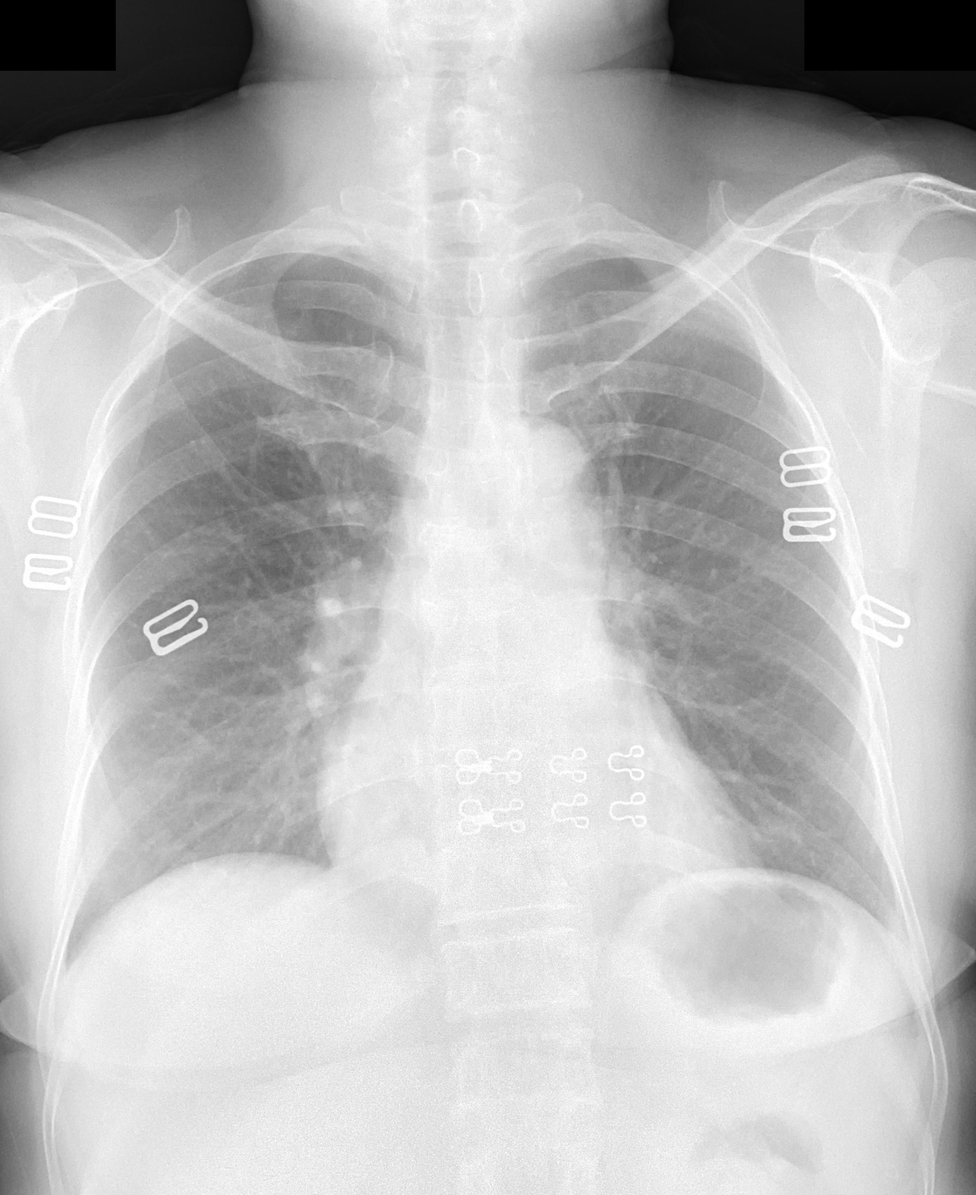Pleural thickening: (639, 245, 743, 318)
